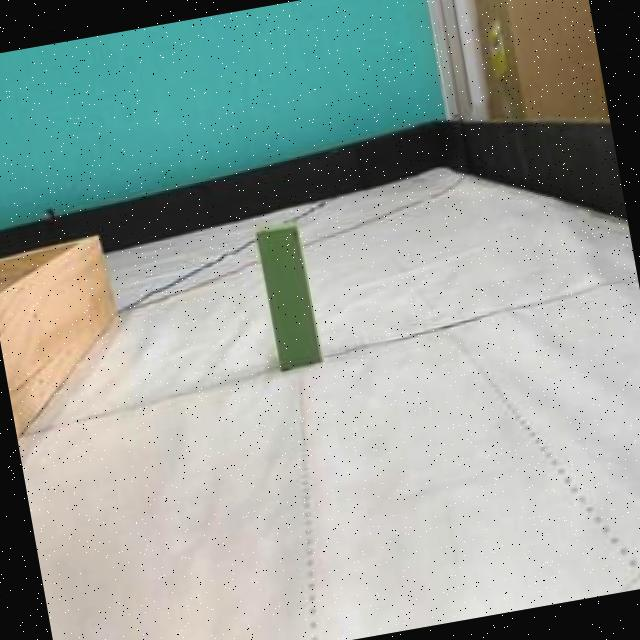greenbox: (252, 222, 320, 368)
